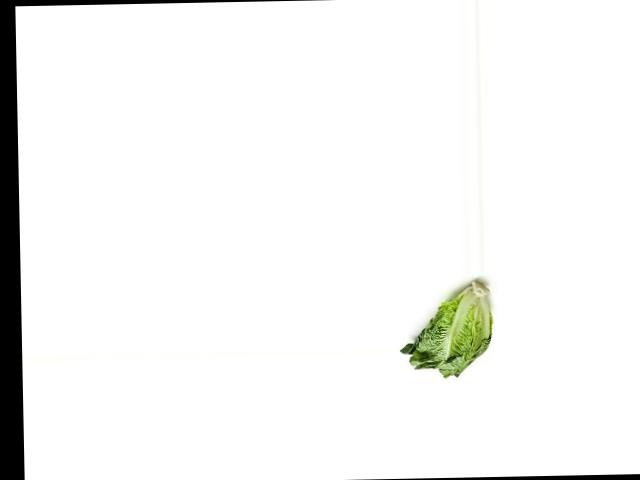lettuce: (400, 283, 496, 382)
